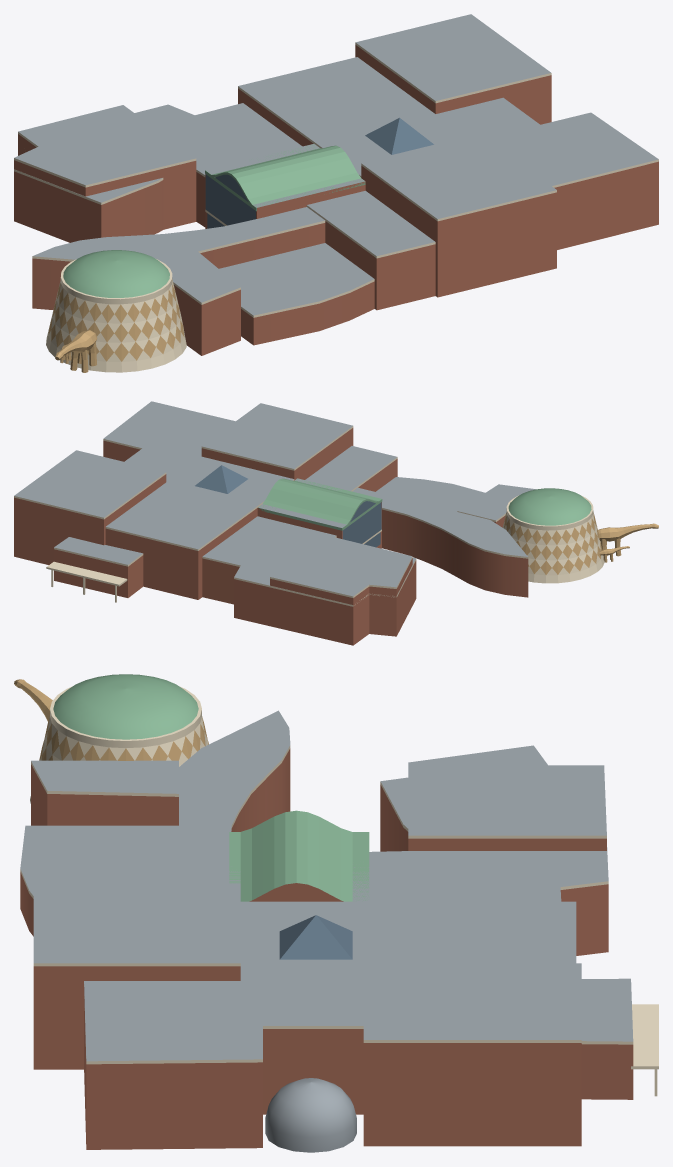
File: indy-childrens-museum.glb
3 renders of one model, top to bottom at view 1: azimuth 30°, elevation 25°; view 2: azimuth 150°, elevation 25°; view 3: azimuth 270°, elevation 25°, orthographic. The views are drawn at different scales.
Visible parts, largest first — view 1: The Children's Museum of Indianapolis; view 2: The Children's Museum of Indianapolis; view 3: The Children's Museum of Indianapolis.
Part boxes in pixels (x1,y1,x2,y2): The Children's Museum of Indianapolis: (14, 14, 658, 372); The Children's Museum of Indianapolis: (14, 401, 658, 645); The Children's Museum of Indianapolis: (14, 674, 658, 1152).
Size of the model in its own units: 177 by 23.5 by 115.
